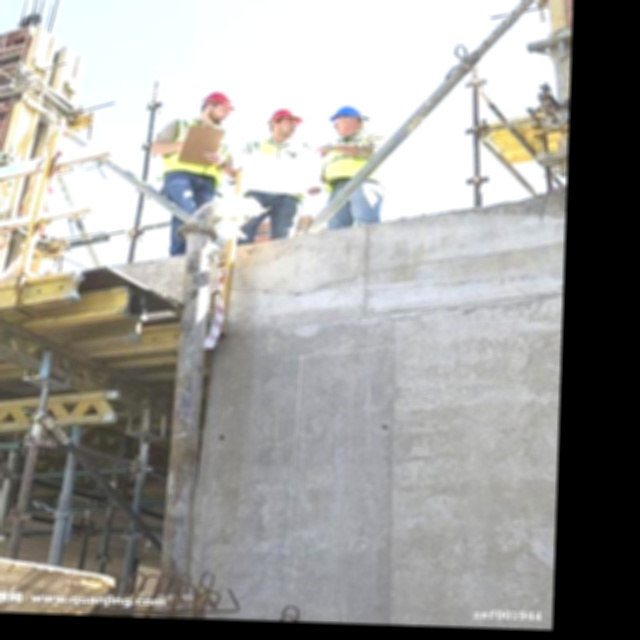Con_Casco: (199, 90, 238, 127), (328, 106, 368, 139), (269, 107, 304, 138)
